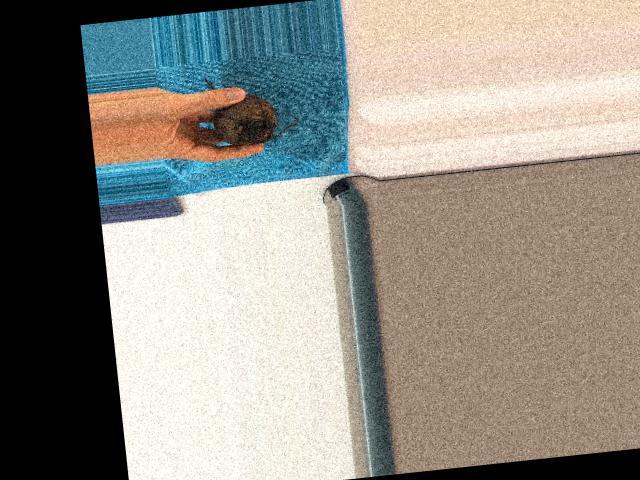beet: (205, 68, 299, 148)
